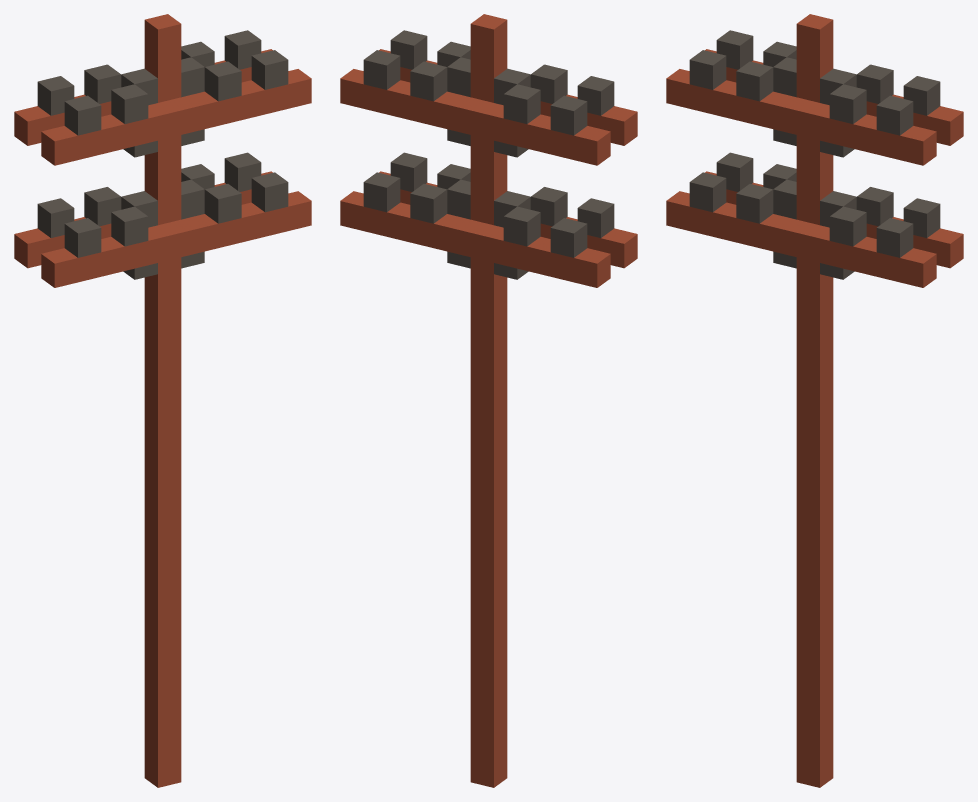
The model's file is utility_pole_a.obj.
3 renders of one model, left to right at view 1: azimuth 30°, elevation 25°; view 2: azimuth 150°, elevation 25°; view 3: azimuth 330°, elevation 25°, orthographic.
Size of the model in its own units: 1.1 by 3.1 by 0.3.
1 material, 1 textured.
